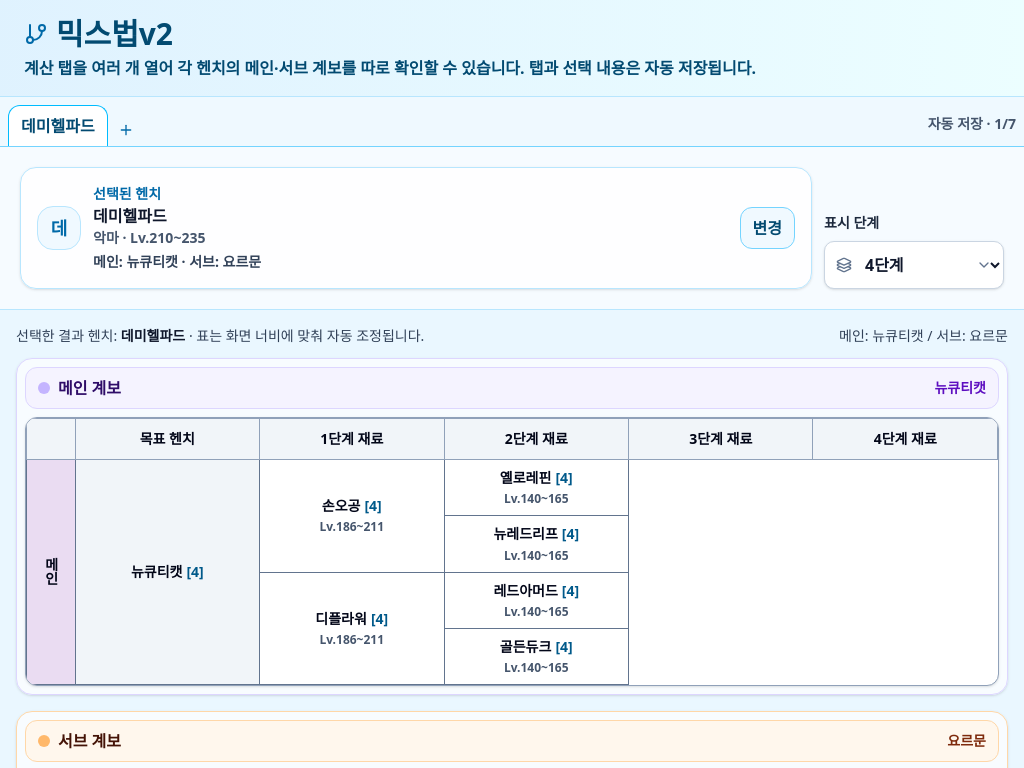
it: MixTreeTable › can close one tab without losing the other tab
The image size is (1024, 768).
Click the button named "믹스법v2 탭 추가" at (126,130), box [112,116,140,144]
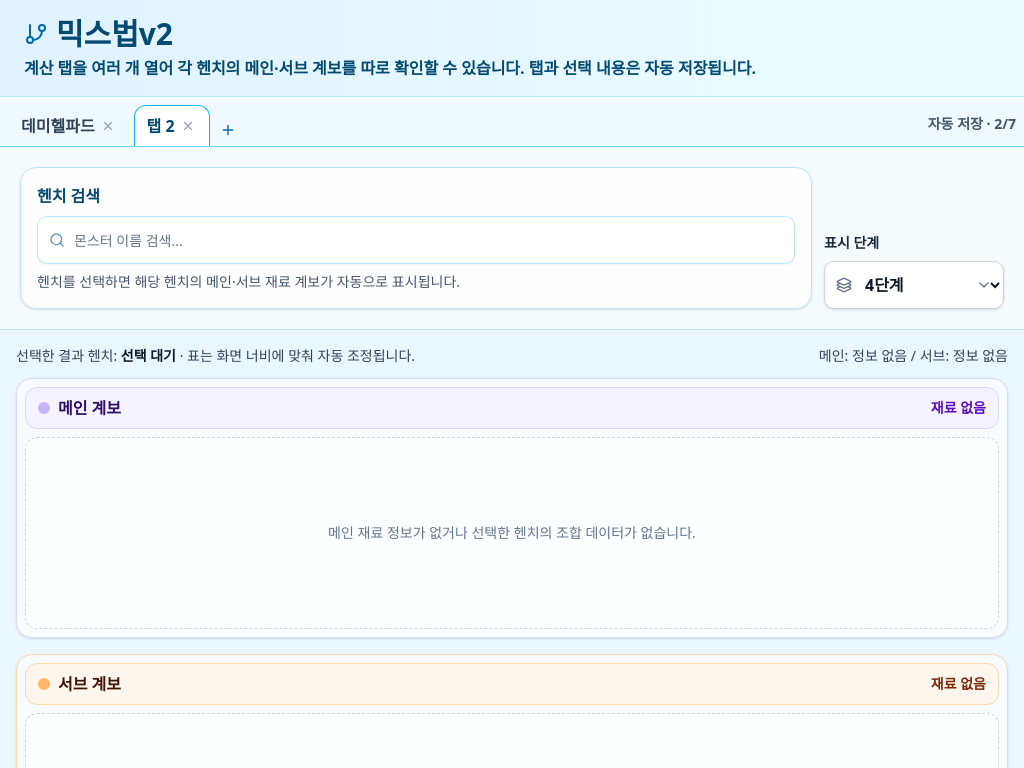
expect the tab "탭 2" is shown: met, box [147,114,175,138]
Click the button named "탭 2 닫기" at (188,126), box [179,117,197,135]
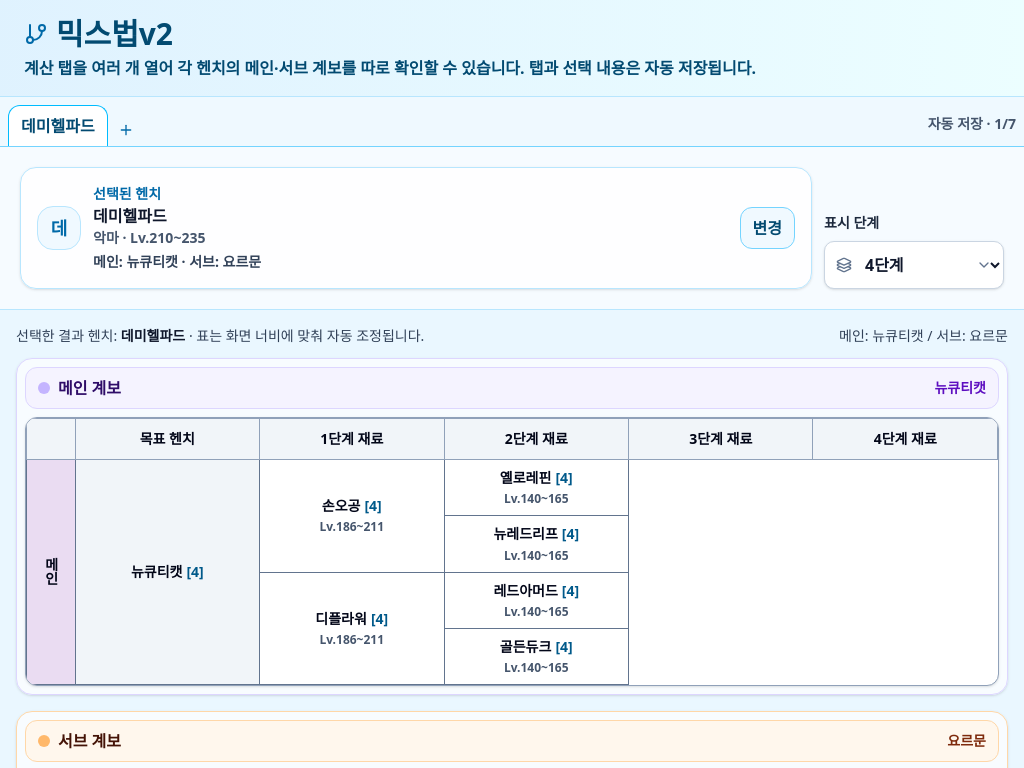
expect the tab "탭 2" is gone: met
